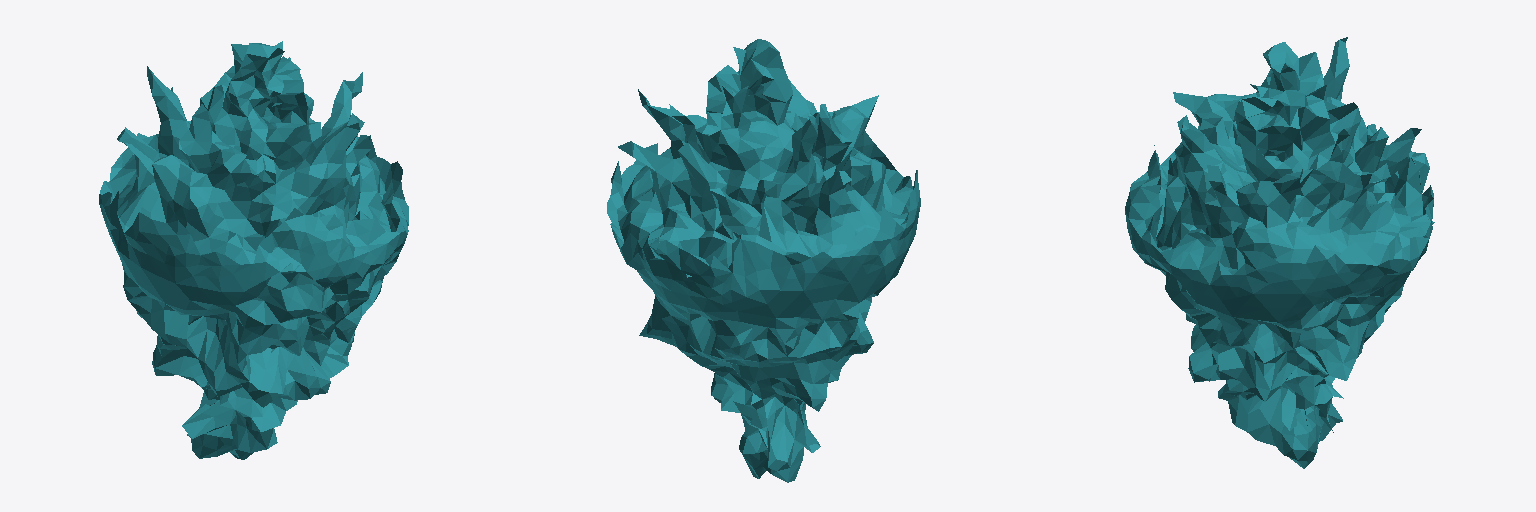
Rendered from myiceberg.obj.
The picture shows the model from 3 angles: view 1: azimuth 30°, elevation 25°; view 2: azimuth 150°, elevation 25°; view 3: azimuth 270°, elevation 25°; orthographic projection.
Visible parts, largest first — view 1: Icosphere_Icosphere.001; view 2: Icosphere_Icosphere.001; view 3: Icosphere_Icosphere.001.
Part boxes in pixels (bbox=[...]): Icosphere_Icosphere.001: bbox=[99, 41, 408, 459]; Icosphere_Icosphere.001: bbox=[607, 39, 920, 482]; Icosphere_Icosphere.001: bbox=[1125, 37, 1434, 468].
Bounding box in the file's own units: 12.06 × 18.09 × 12.